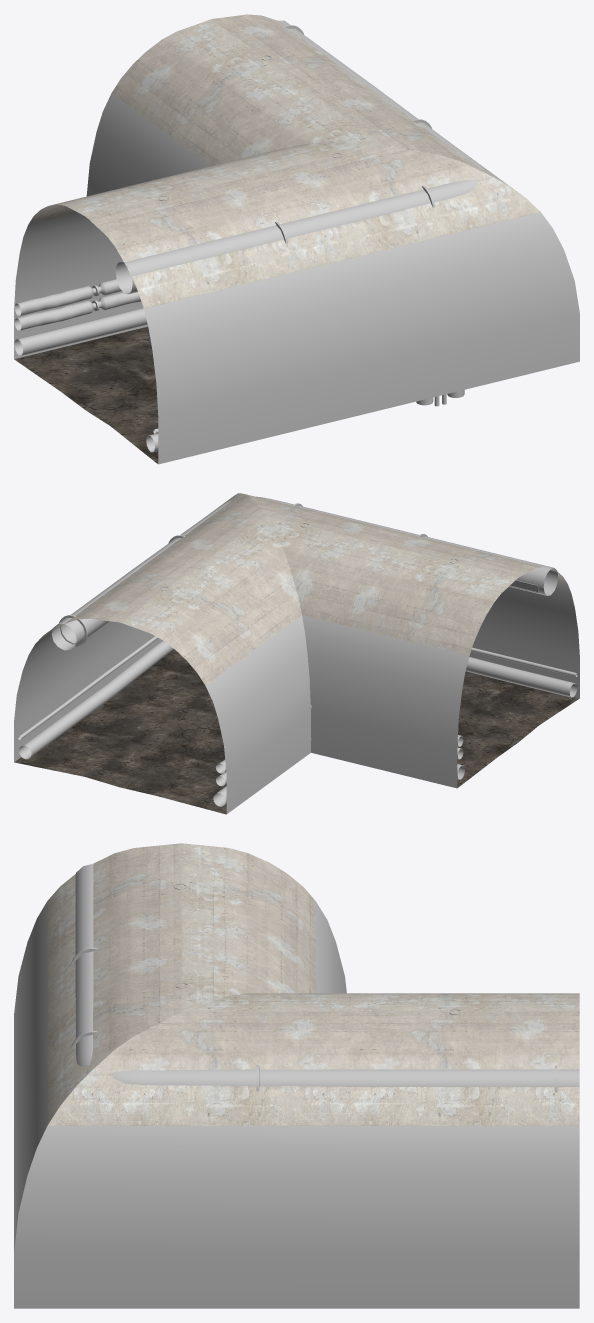
Rendered from Corridor_wall_con_R.FBX.
3 views of the same model, one above another, from view 1: azimuth 30°, elevation 25°; view 2: azimuth 150°, elevation 25°; view 3: azimuth 270°, elevation 25° (orthographic). The views are drawn at different scales.
Visible parts, largest first — view 1: Corridor_wall_con_R, Corridor_floor_con_R, Tube_big_005, Tube_warm011, Tube018; view 2: Corridor_wall_con_R, Corridor_floor_con_R, Tube016, Tube_big_005, Tube_paint012; view 3: Corridor_wall_con_R, Tube_big_005.
Part boxes in pixels (box(x1,y1,x2,y2)): Corridor_wall_con_R: box(14, 14, 579, 464); Corridor_floor_con_R: box(14, 326, 158, 463); Tube_big_005: box(115, 20, 484, 294); Tube_warm011: box(14, 279, 141, 330); Tube018: box(14, 307, 147, 355); Corridor_wall_con_R: box(14, 493, 579, 813); Corridor_floor_con_R: box(14, 649, 579, 814); Tube016: box(19, 640, 577, 759); Tube_big_005: box(51, 496, 558, 650); Tube_paint012: box(18, 636, 577, 739); Corridor_wall_con_R: box(14, 843, 579, 1308); Tube_big_005: box(71, 864, 579, 1092).
Bounding box in the file's own units: 845 × 398 × 845.
